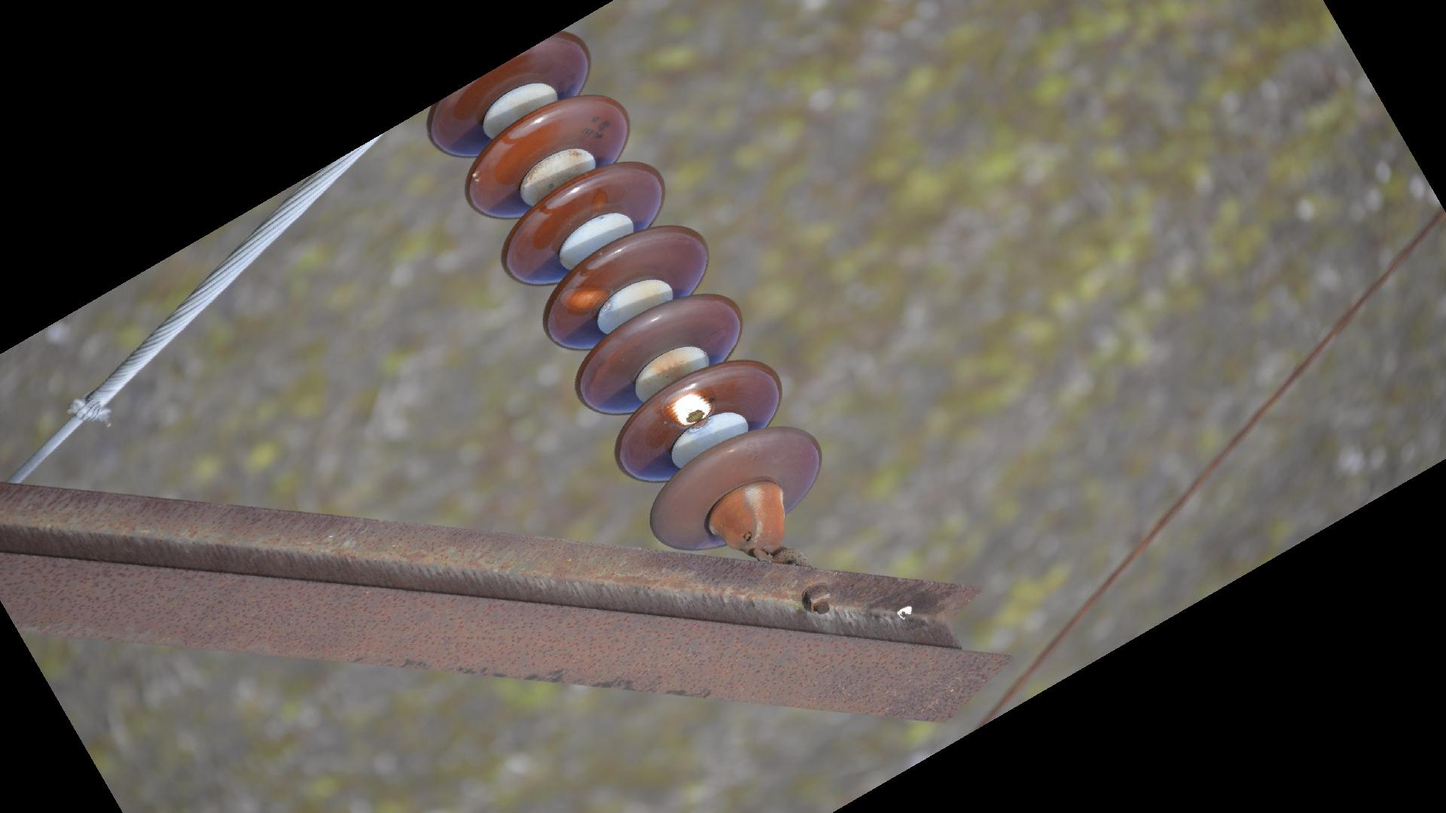insulator: (419, 26, 828, 561)
insulator_flashover: (663, 386, 716, 430), (558, 282, 614, 315)
